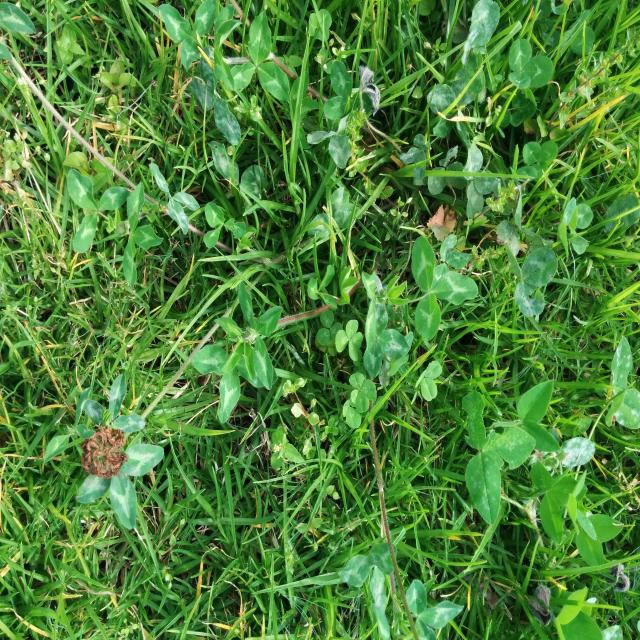Four Leaf Clover: (335, 319, 363, 361), (349, 372, 377, 412)
